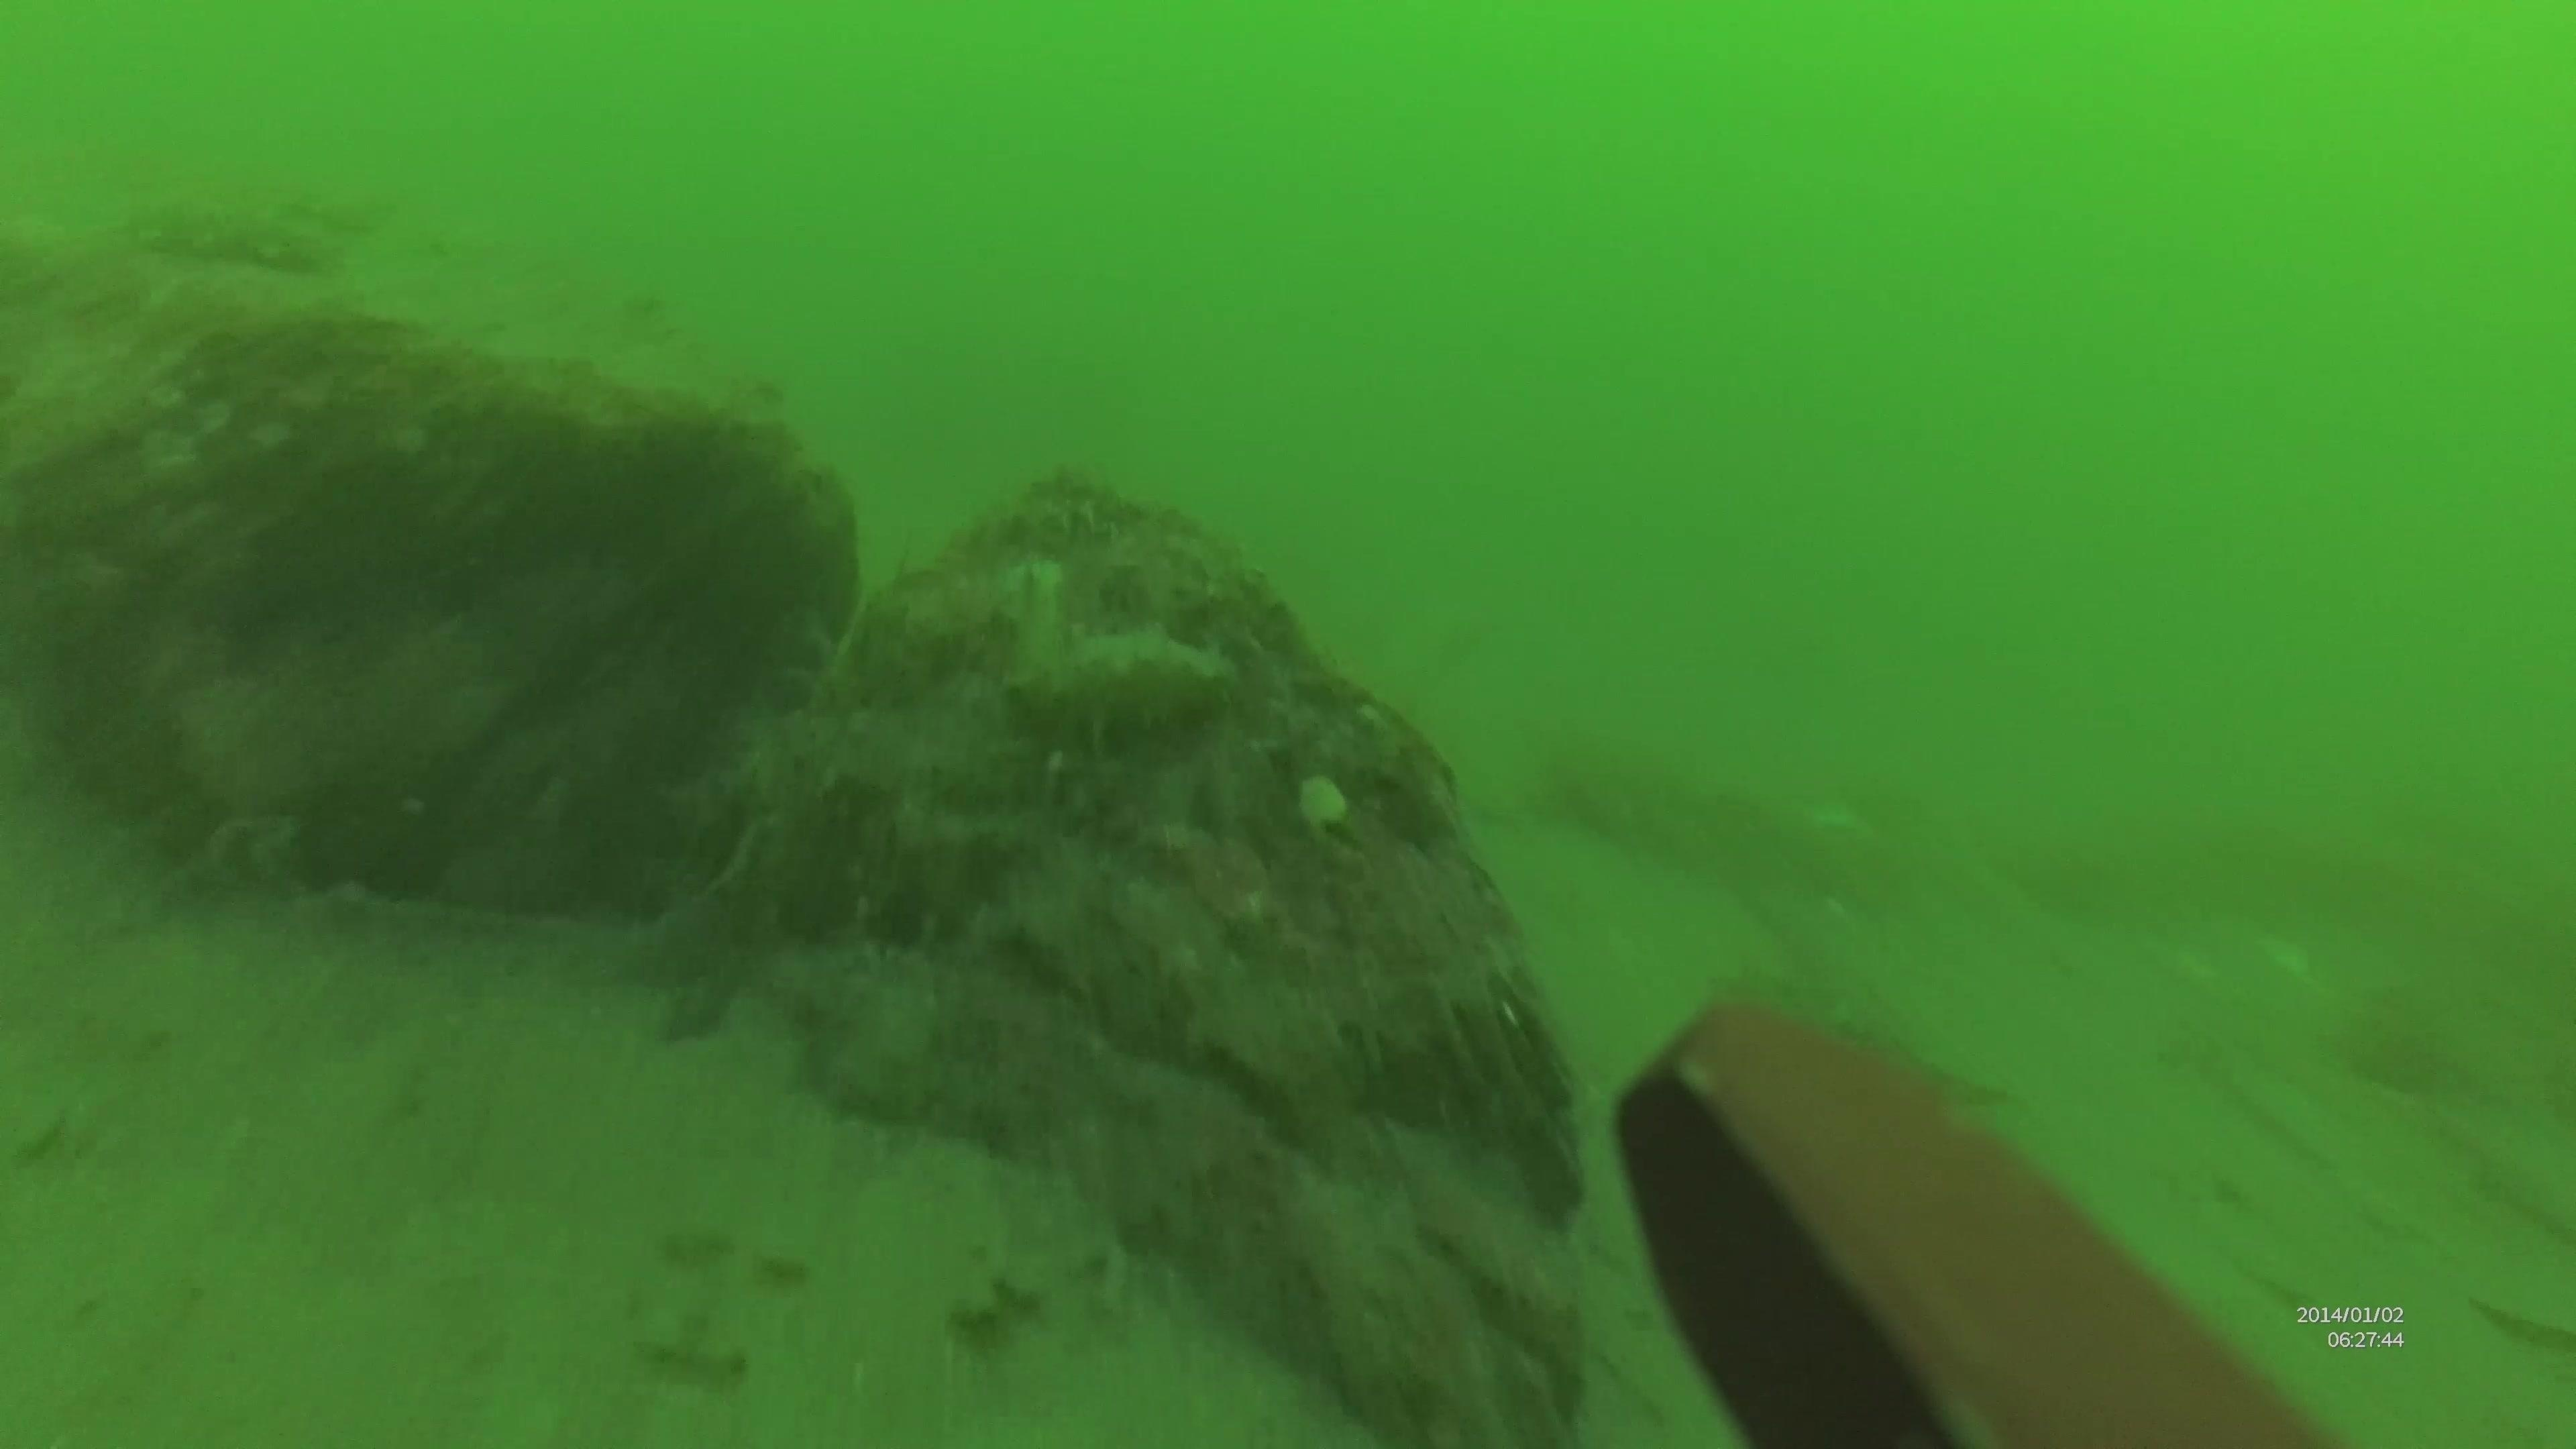holothurian: (1001, 628, 1246, 752), (119, 184, 370, 281)
